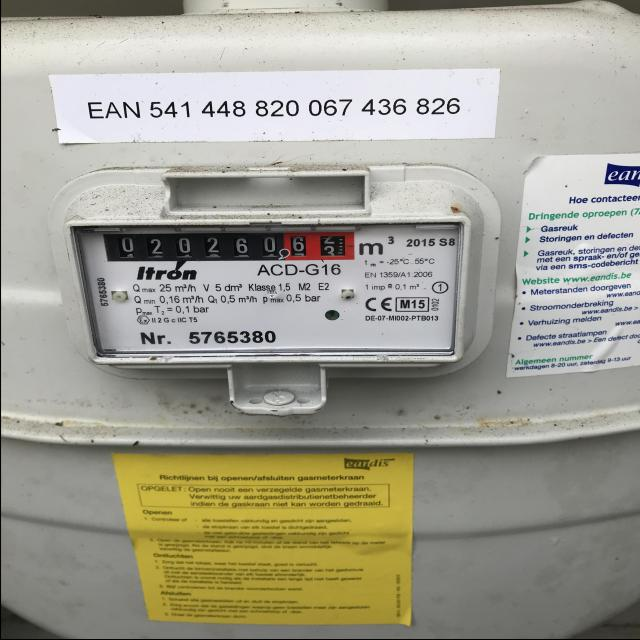gaz_meter: (70, 215, 460, 361)
indication: (103, 229, 355, 263)
